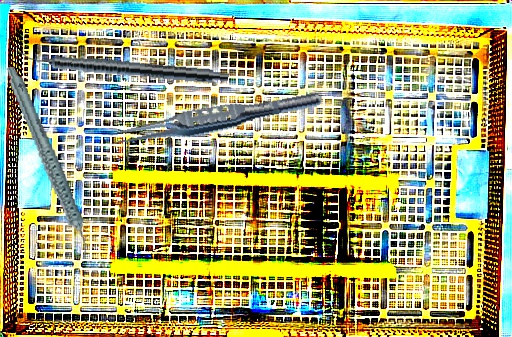Handpiece: (5, 59, 90, 267), (16, 47, 230, 86)
Tissue Forceps: (104, 82, 325, 156)
